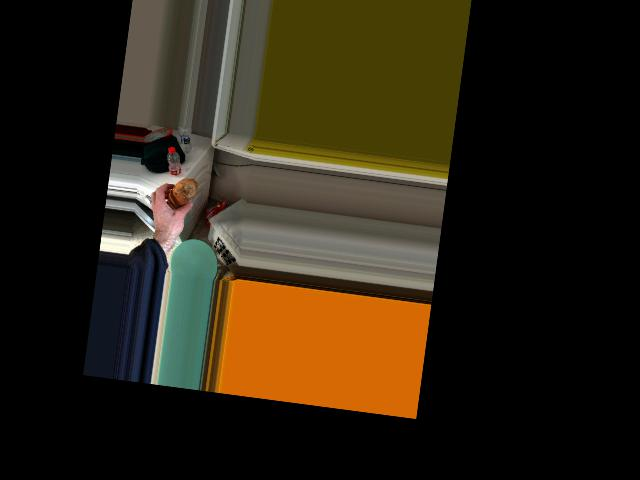sweet_potato: (166, 174, 198, 212)
